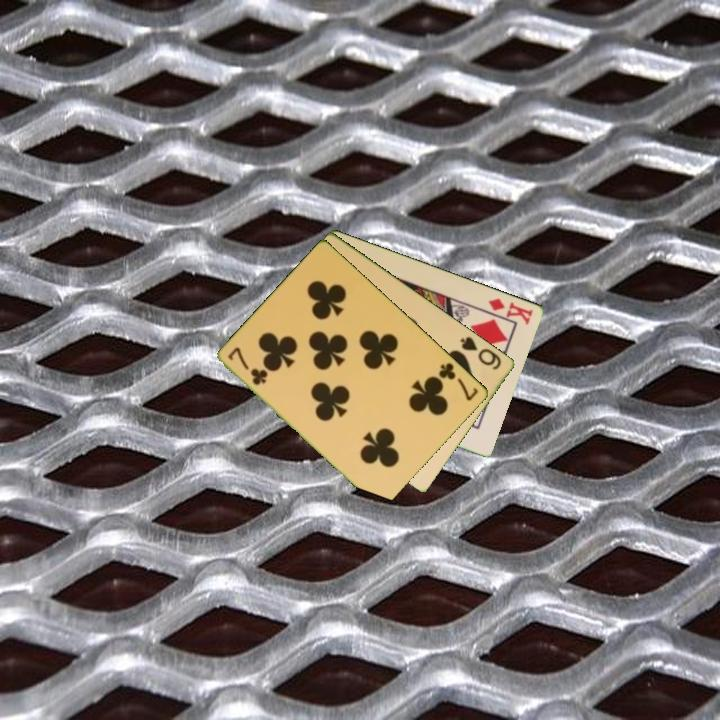6s: (457, 332, 505, 373)
7c: (435, 359, 482, 404), (224, 343, 271, 388)
Kd: (485, 294, 536, 328)
